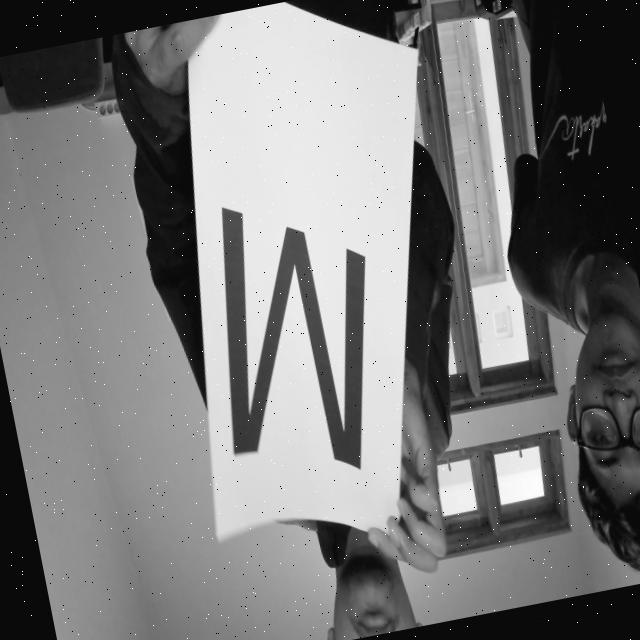m: (184, 166, 417, 499)
